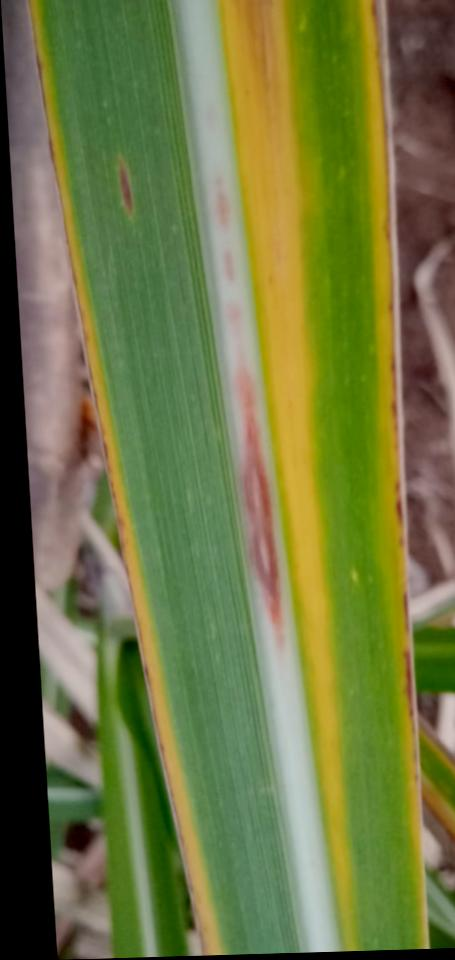RedRot: (226, 301, 288, 668), (216, 191, 230, 232), (221, 249, 236, 285)
Rust: (118, 163, 133, 219)
Yellow: (28, 0, 224, 956), (219, 0, 357, 951), (358, 0, 428, 948)
